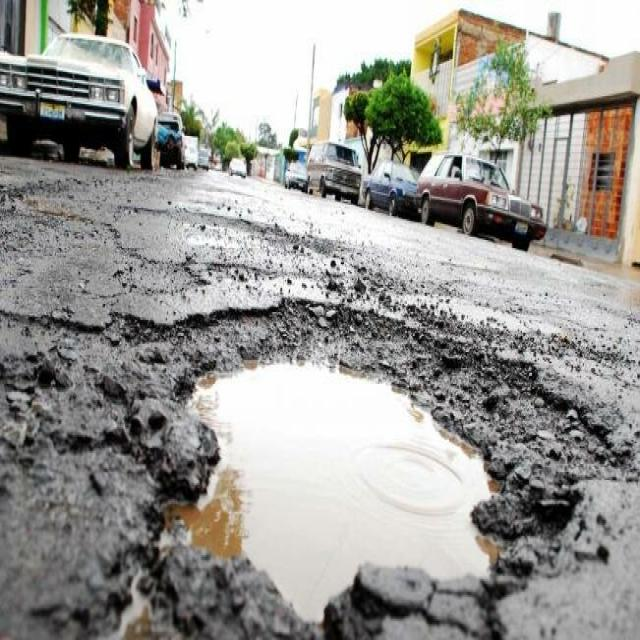Pothole: (82, 269, 596, 640)
